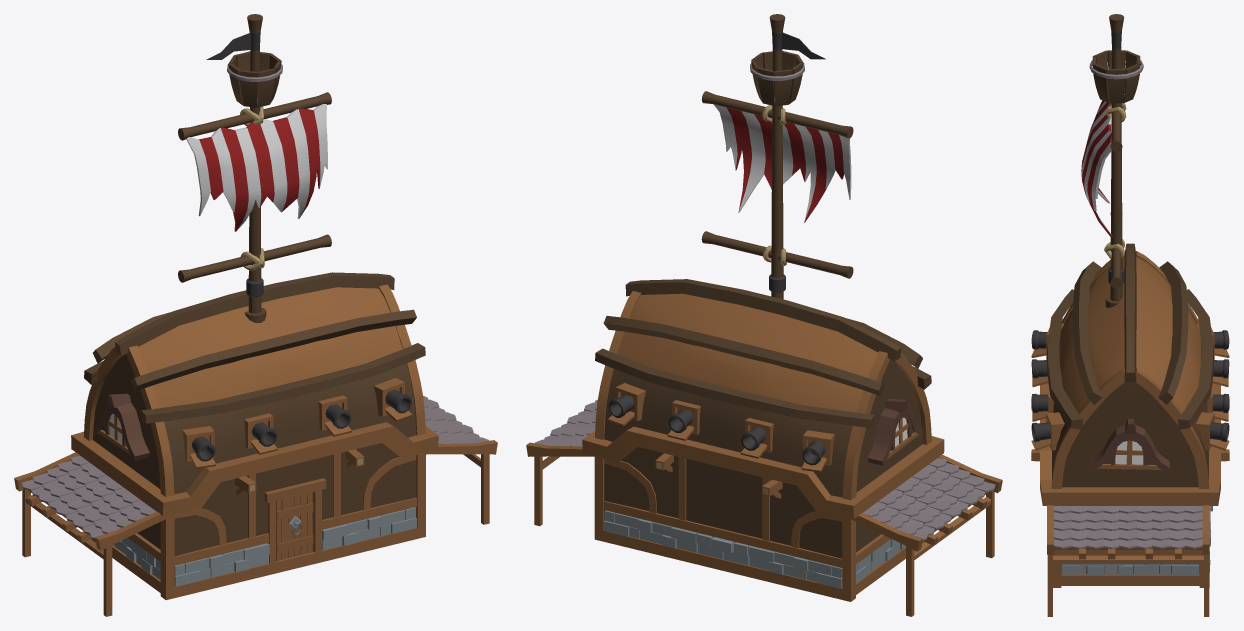
File: adarsh-thapa-house.glb
3 renders of one model, left to right at view 1: azimuth 30°, elevation 25°; view 2: azimuth 150°, elevation 25°; view 3: azimuth 270°, elevation 25°, orthographic. The views are drawn at different scales.
Parts seen in each view (by area): view 1: Environment_House3; view 2: Environment_House3; view 3: Environment_House3.
Boxes of the visible parts, bbox=[...] form: Environment_House3: bbox=[14, 14, 497, 616]; Environment_House3: bbox=[526, 14, 1002, 616]; Environment_House3: bbox=[1031, 14, 1229, 616].
Bounding box in the file's own units: 8.46 × 10.64 × 3.78.
Materials: 2 (1 with a texture image).
